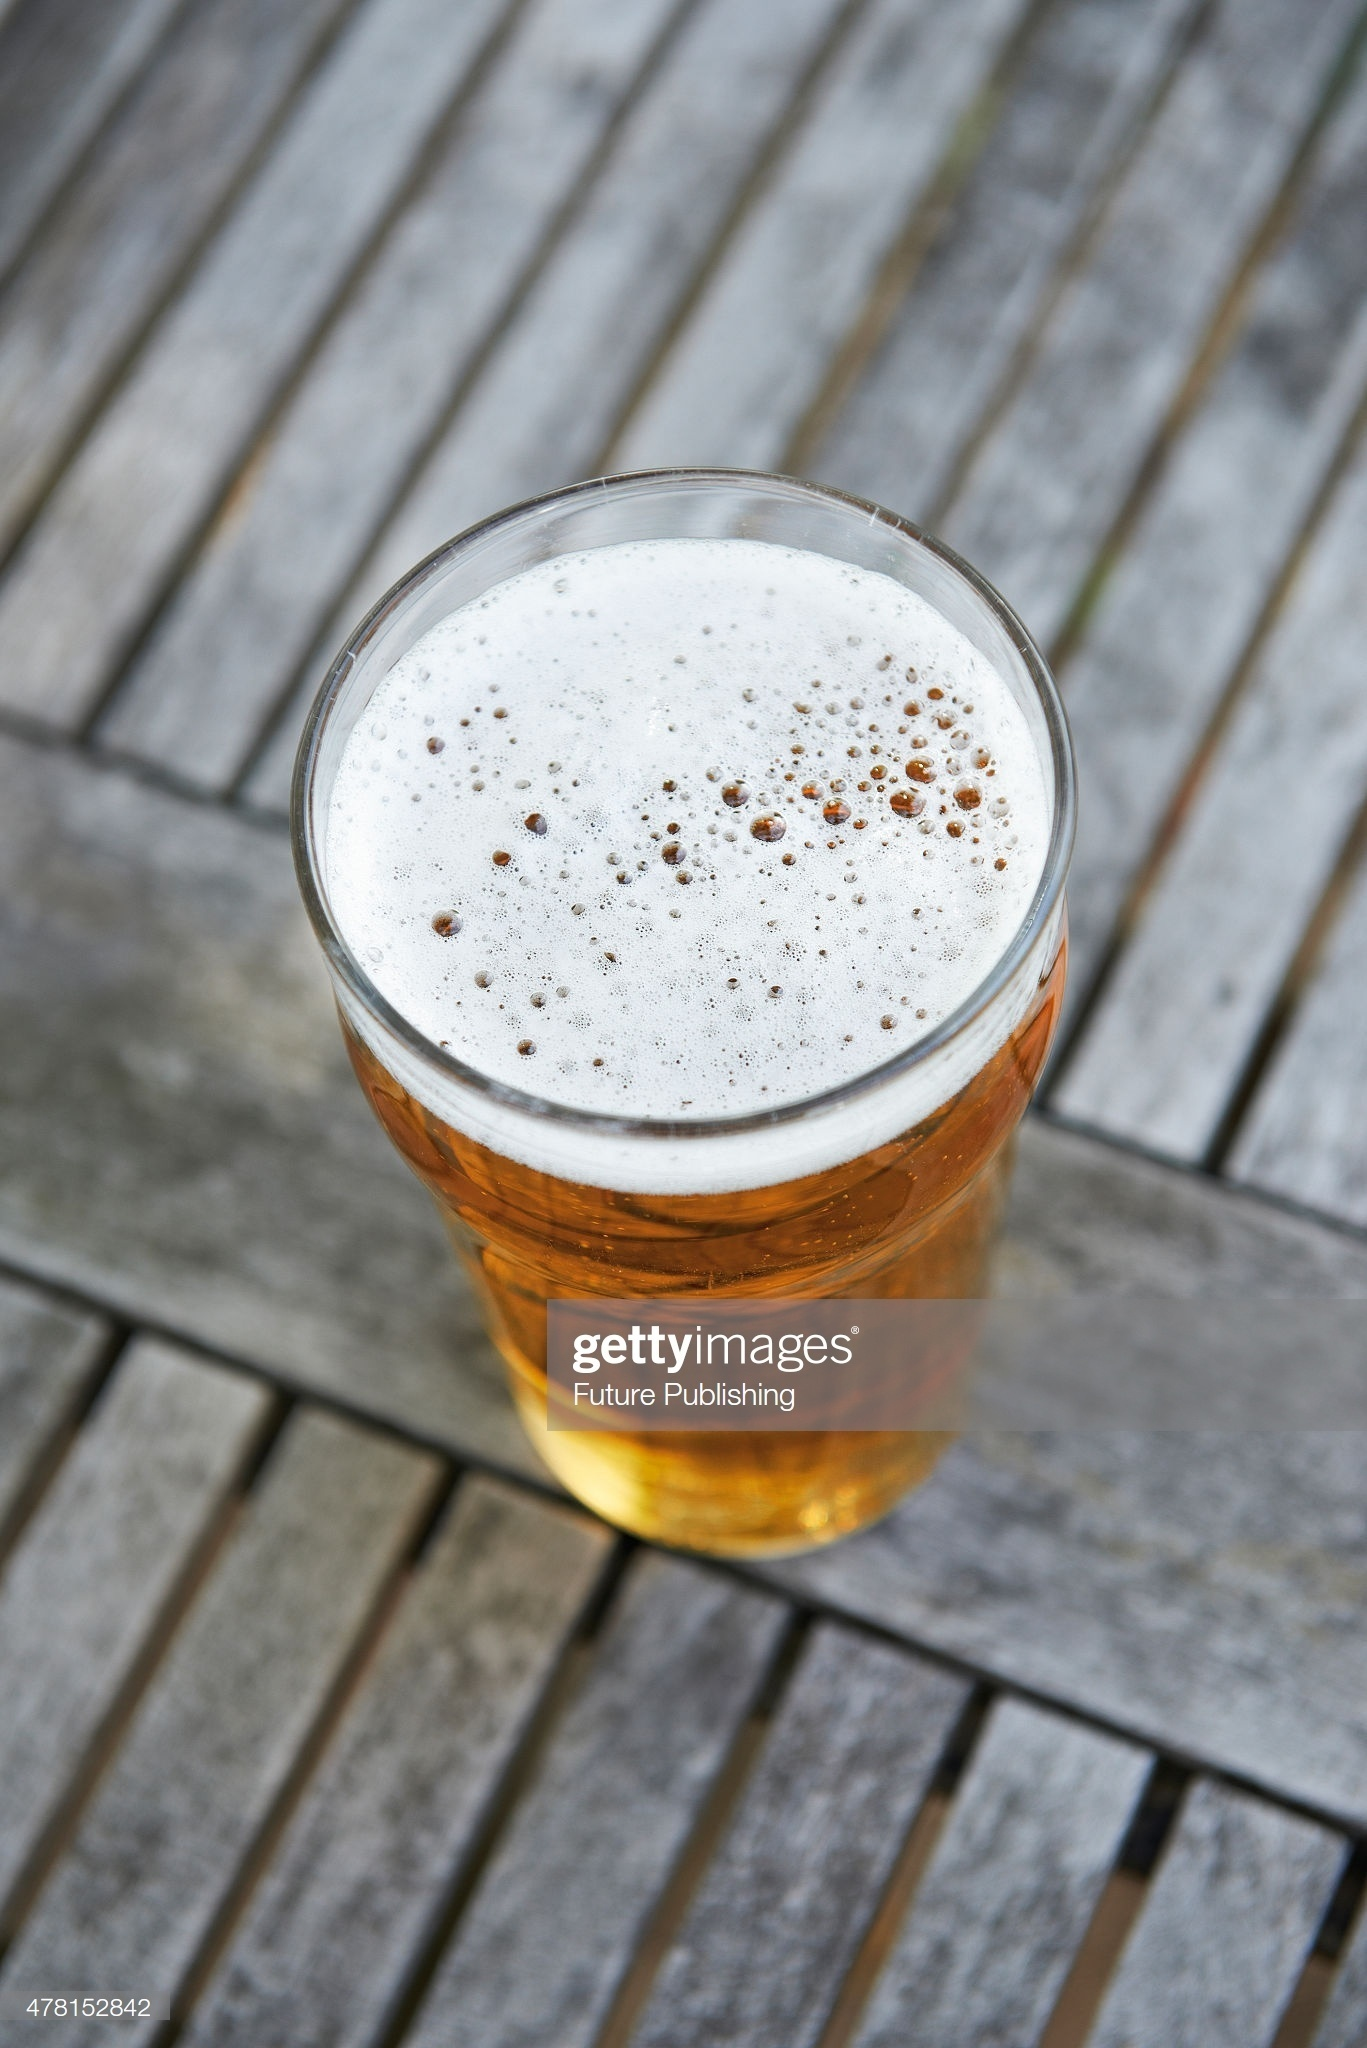whiskey: (316, 470, 1008, 1601)
